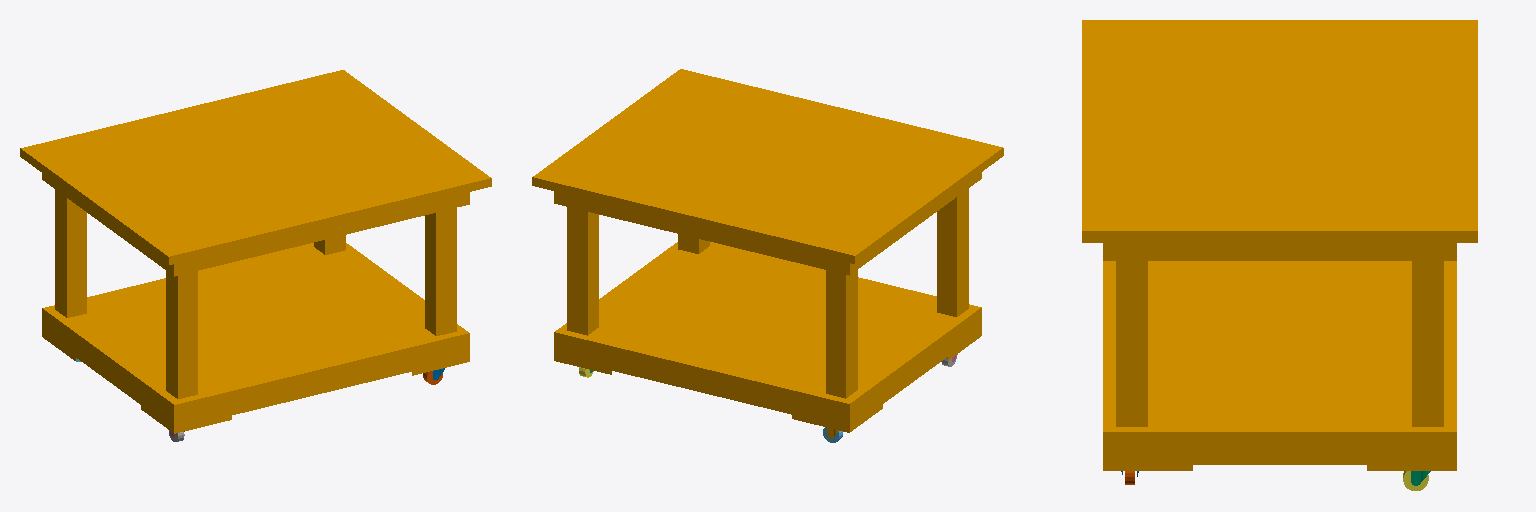
robot.urdf — 19203:
<?xml version="1.0" ?>
<robot name="19203" version="1.0">
  <link name="link_0">
    <visual name="link_0___1">
      <origin rpy="0.0 0.0 0.0" xyz="0.606799069797977 -0.46982091460933856 0.0"/>
      <geometry>
        <mesh filename="shape/visual/link_0_m1_vm.obj"/>
      </geometry>
    </visual>
    <collision>
      <origin rpy="0.0 0.0 0.0" xyz="0.606799069797977 -0.46982091460933856 0.0"/>
      <geometry>
        <mesh filename="shape/collision/link_0_cm.obj"/>
      </geometry>
    </collision>
  </link>
  <link name="link_1">
    <visual name="link_1___1">
      <origin rpy="0.0 0.0 0.0" xyz="0.5753904999999999 -0.0 0.5511784999999999"/>
      <geometry>
        <mesh filename="shape/visual/link_1_m1_vm.obj"/>
      </geometry>
    </visual>
    <collision>
      <origin rpy="0.0 0.0 0.0" xyz="0.5753904999999999 -0.0 0.5511784999999999"/>
      <geometry>
        <mesh filename="shape/collision/link_1_cm.obj"/>
      </geometry>
    </collision>
  </link>
  <link name="link_2">
    <visual name="link_2___1">
      <origin rpy="0.0 0.0 0.0" xyz="-0.6015289615053332 -0.45847411478613603 0.0"/>
      <geometry>
        <mesh filename="shape/visual/link_2_m1_vm.obj"/>
      </geometry>
    </visual>
    <collision>
      <origin rpy="0.0 0.0 0.0" xyz="-0.6015289615053332 -0.45847411478613603 0.0"/>
      <geometry>
        <mesh filename="shape/collision/link_2_cm.obj"/>
      </geometry>
    </collision>
  </link>
  <link name="link_3">
    <visual name="link_3___1">
      <origin rpy="0.0 0.0 0.0" xyz="-0.6243054491276966 -0.42814229096345746 0.5514421963839776"/>
      <geometry>
        <mesh filename="shape/visual/link_3_m1_vm.obj"/>
      </geometry>
    </visual>
    <collision>
      <origin rpy="0.0 0.0 0.0" xyz="-0.6243054491276966 -0.42814229096345746 0.5514421963839776"/>
      <geometry>
        <mesh filename="shape/collision/link_3_cm.obj"/>
      </geometry>
    </collision>
  </link>
  <link name="link_4">
    <visual name="link_4___1">
      <origin rpy="0.0 0.0 0.0" xyz="-0.5901816443331189 0.43996147110157713 0.0"/>
      <geometry>
        <mesh filename="shape/visual/link_4_m1_vm.obj"/>
      </geometry>
    </visual>
    <collision>
      <origin rpy="0.0 0.0 0.0" xyz="-0.5901816443331189 0.43996147110157713 0.0"/>
      <geometry>
        <mesh filename="shape/collision/link_4_cm.obj"/>
      </geometry>
    </collision>
  </link>
  <link name="link_5">
    <visual name="link_5___1">
      <origin rpy="0.0 0.0 0.0" xyz="-0.5587737868012876 -0.0 0.5511784999999999"/>
      <geometry>
        <mesh filename="shape/visual/link_5_m1_vm.obj"/>
      </geometry>
    </visual>
    <collision>
      <origin rpy="0.0 0.0 0.0" xyz="-0.5587737868012876 -0.0 0.5511784999999999"/>
      <geometry>
        <mesh filename="shape/collision/link_5_cm.obj"/>
      </geometry>
    </collision>
  </link>
  <link name="link_6">
    <visual name="link_6___1">
      <origin rpy="0.0 0.0 0.0" xyz="0.6181829999999999 0.42662500000000003 0.0"/>
      <geometry>
        <mesh filename="shape/visual/link_6_m1_vm.obj"/>
      </geometry>
    </visual>
    <collision>
      <origin rpy="0.0 0.0 0.0" xyz="0.6181829999999999 0.42662500000000003 0.0"/>
      <geometry>
        <mesh filename="shape/collision/link_6_cm.obj"/>
      </geometry>
    </collision>
  </link>
  <link name="link_7">
    <visual name="link_7___1">
      <origin rpy="0.0 0.0 0.0" xyz="0.640922 0.39798255958692286 0.5512141919173537"/>
      <geometry>
        <mesh filename="shape/visual/link_7_m1_vm.obj"/>
      </geometry>
    </visual>
    <collision>
      <origin rpy="0.0 0.0 0.0" xyz="0.640922 0.39798255958692286 0.5512141919173537"/>
      <geometry>
        <mesh filename="shape/collision/link_7_cm.obj"/>
      </geometry>
    </collision>
  </link>
  <link name="base_link">
    <visual name="link_8___2">
      <origin rpy="0.0 0.0 0.0" xyz="0.0 -0.0 0.0"/>
      <geometry>
        <mesh filename="shape/visual/link_8_m2_vm.obj"/>
      </geometry>
    </visual>
    <visual name="link_8___1">
      <origin rpy="0.0 0.0 0.0" xyz="0.0 -0.0 0.0"/>
      <geometry>
        <mesh filename="shape/visual/link_8_m1_vm.obj"/>
      </geometry>
    </visual>
    <collision>
      <origin rpy="0.0 0.0 0.0" xyz="0.0 -0.0 0.0"/>
      <geometry>
        <mesh filename="shape/collision/link_8_cm.obj"/>
      </geometry>
    </collision>
  </link>
  <joint name="joint_0" type="continuous">
    <origin rpy="0.0 0.0 0.0" xyz="-0.606799069797977 0.46982091460933856 0.0"/>
    <axis xyz="0.0 -0.0 1.0"/>
    <parent link="base_link"/>
    <child link="link_0"/>
  </joint>
  <joint name="joint_1" type="continuous">
    <origin rpy="0.0 0.0 0.0" xyz="0.031408569797977126 -0.46982091460933856 -0.5511784999999999"/>
    <axis xyz="0.0 -1.0 0.0"/>
    <parent link="link_0"/>
    <child link="link_1"/>
  </joint>
  <joint name="joint_2" type="continuous">
    <origin rpy="0.0 0.0 0.0" xyz="0.6015289615053332 0.45847411478613603 0.0"/>
    <axis xyz="0.0 -0.0 1.0"/>
    <parent link="base_link"/>
    <child link="link_2"/>
  </joint>
  <joint name="joint_3" type="continuous">
    <origin rpy="0.0 0.0 0.0" xyz="0.022776487622363395 -0.030331823822678572 -0.5514421963839776"/>
    <axis xyz="0.9999999993838132 3.458412586590247e-05 6.0259324194091366e-06"/>
    <parent link="link_2"/>
    <child link="link_3"/>
  </joint>
  <joint name="joint_4" type="continuous">
    <origin rpy="0.0 0.0 0.0" xyz="0.5901816443331189 -0.43996147110157713 0.0"/>
    <axis xyz="0.0 -0.0 1.0"/>
    <parent link="base_link"/>
    <child link="link_4"/>
  </joint>
  <joint name="joint_5" type="continuous">
    <origin rpy="0.0 0.0 0.0" xyz="-0.031407857531831285 0.43996147110157713 -0.5511784999999999"/>
    <axis xyz="0.0 1.0 0.0"/>
    <parent link="link_4"/>
    <child link="link_5"/>
  </joint>
  <joint name="joint_6" type="continuous">
    <origin rpy="0.0 0.0 0.0" xyz="-0.6181829999999999 -0.42662500000000003 0.0"/>
    <axis xyz="0.0 -0.0 1.0"/>
    <parent link="base_link"/>
    <child link="link_6"/>
  </joint>
  <joint name="joint_7" type="continuous">
    <origin rpy="0.0 0.0 0.0" xyz="-0.022739000000000065 0.028642440413077175 -0.5512141919173537"/>
    <axis xyz="1.0 -0.0 0.0"/>
    <parent link="link_6"/>
    <child link="link_7"/>
  </joint>
</robot>

--- Facts derived from the render (not from the file) ---
Views: 3 orthographic renders of the robot side by side, from view 1: azimuth 30°, elevation 25°; view 2: azimuth 150°, elevation 25°; view 3: azimuth 270°, elevation 25°.
Robot: 19203 — 9 links, 8 joints (8 continuous); root link base_link; default pose: all joints at 0.
Links seen in each view (by area): view 1: base_link; view 2: base_link; view 3: base_link.
Boxes of the visible links, x1,y1,x2,y2 form: base_link: (20,70,491,433); base_link: (532,69,1003,432); base_link: (1082,20,1477,470).
Bounding box of the posed robot: 1.51 × 1.2 × 0.9329 m (x, y, z).
10 mesh visuals loaded from 10 distinct referenced files (10 OBJ).
